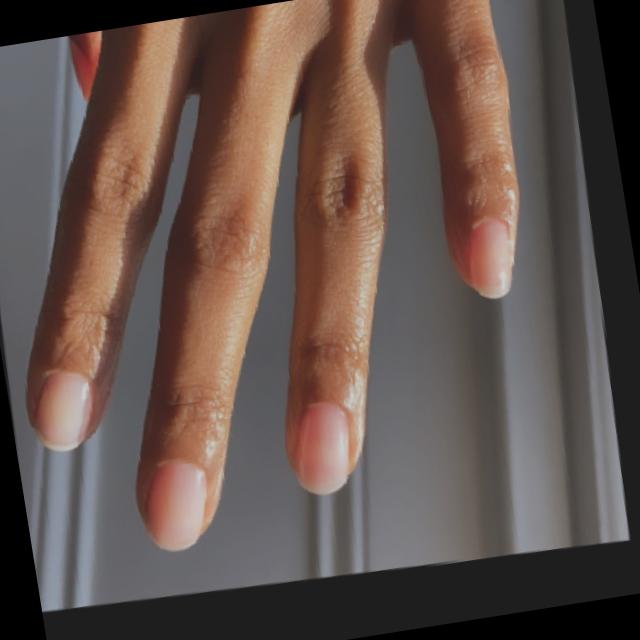Nail: (149, 462, 209, 550), (295, 403, 351, 493), (35, 373, 93, 452), (471, 221, 513, 296)
